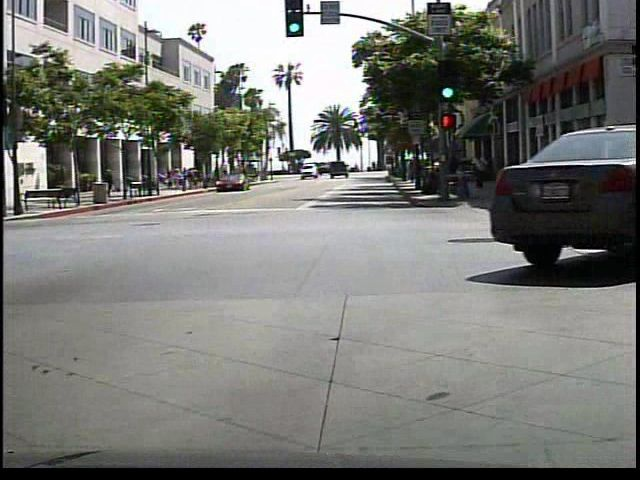person: (101, 162, 119, 199)
